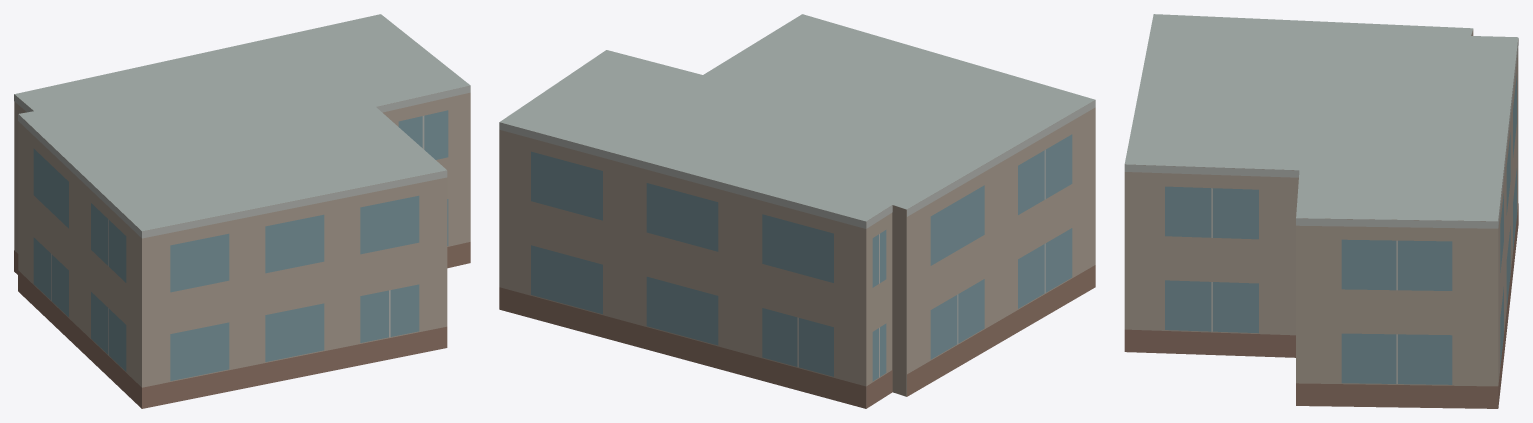
File: survey-upis-32595447.glb
3 views of the same model, side by side, from view 1: azimuth 30°, elevation 25°; view 2: azimuth 150°, elevation 25°; view 3: azimuth 270°, elevation 25° (orthographic). The views are drawn at different scales.
Parts seen in each view (by area): view 1: survey-upis-32595447.tmp; view 2: survey-upis-32595447.tmp; view 3: survey-upis-32595447.tmp.
Part boxes in pixels (x1,y1,x2,y2): survey-upis-32595447.tmp: (14, 14, 470, 408); survey-upis-32595447.tmp: (499, 14, 1095, 408); survey-upis-32595447.tmp: (1124, 14, 1518, 408).
Size of the model in its own units: 14.47 by 6.1 by 11.62.
